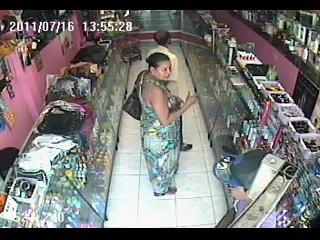Normal: (138, 53, 197, 198), (122, 70, 148, 121)
